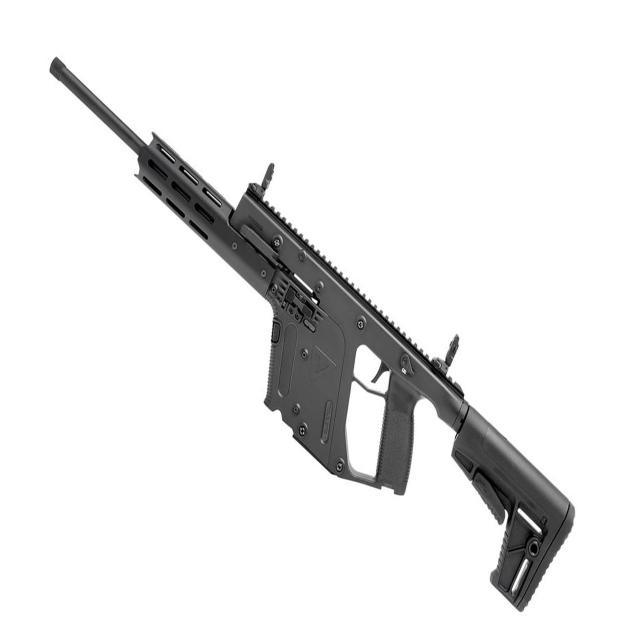SMG: (48, 58, 576, 613)
